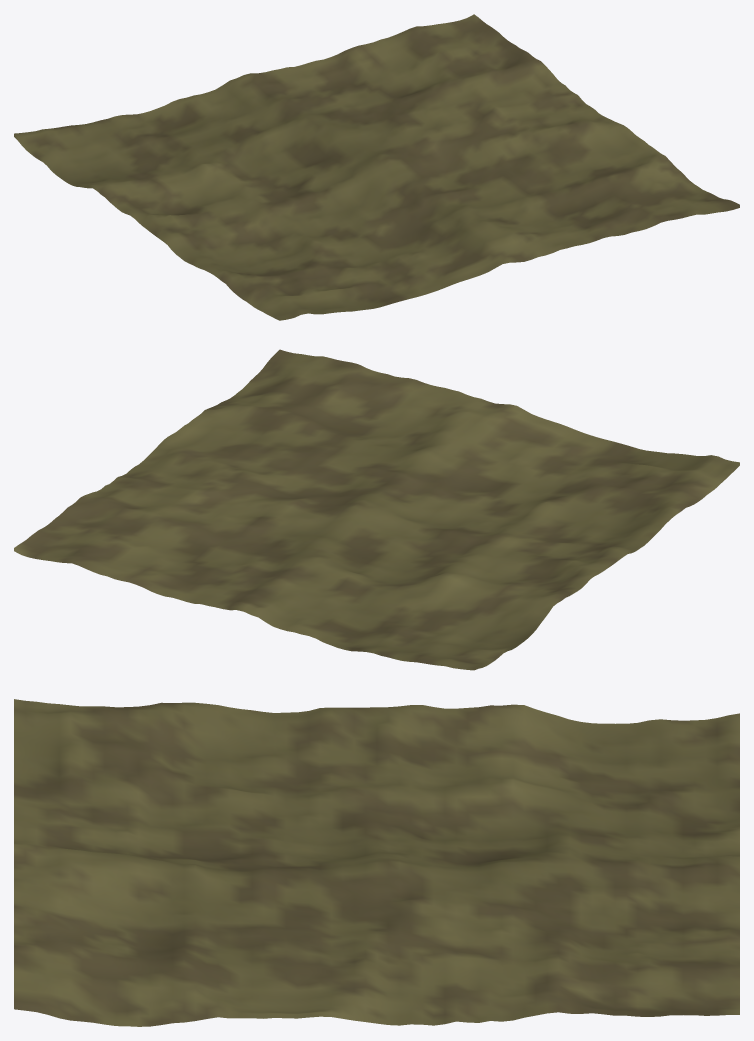
Rendered from land_f_08_00.glb.
3 views of the same model, one above another, from view 1: azimuth 30°, elevation 25°; view 2: azimuth 150°, elevation 25°; view 3: azimuth 270°, elevation 25° (orthographic). The views are drawn at different scales.
Visible parts, largest first — view 1: land_f_08_00; view 2: land_f_08_00; view 3: land_f_08_00.
Boxes of the visible parts, bbox=[...] form: land_f_08_00: bbox=[14, 14, 739, 320]; land_f_08_00: bbox=[14, 349, 739, 670]; land_f_08_00: bbox=[14, 699, 739, 1026].
Size of the model in its own units: 3840 by 238 by 3840.
